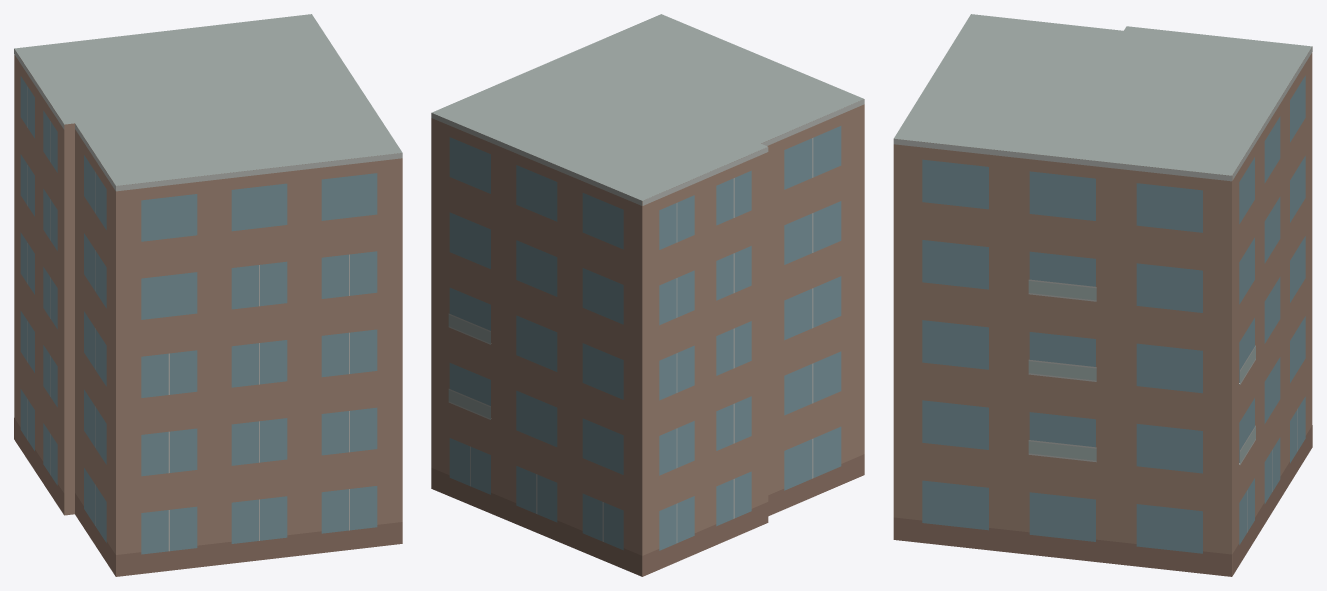
The model's file is survey-upis-32762614.glb.
3 views of the same model, side by side, from view 1: azimuth 30°, elevation 25°; view 2: azimuth 150°, elevation 25°; view 3: azimuth 270°, elevation 25° (orthographic). The views are drawn at different scales.
Visible parts, largest first — view 1: survey-upis-32762614.tmp; view 2: survey-upis-32762614.tmp; view 3: survey-upis-32762614.tmp.
Boxes of the visible parts, x1=… form: survey-upis-32762614.tmp: x1=14, y1=14, x2=402, y2=576; survey-upis-32762614.tmp: x1=431, y1=14, x2=864, y2=576; survey-upis-32762614.tmp: x1=893, y1=14, x2=1312, y2=576.
Size of the model in its own units: 15.19 by 17.55 by 16.62.
